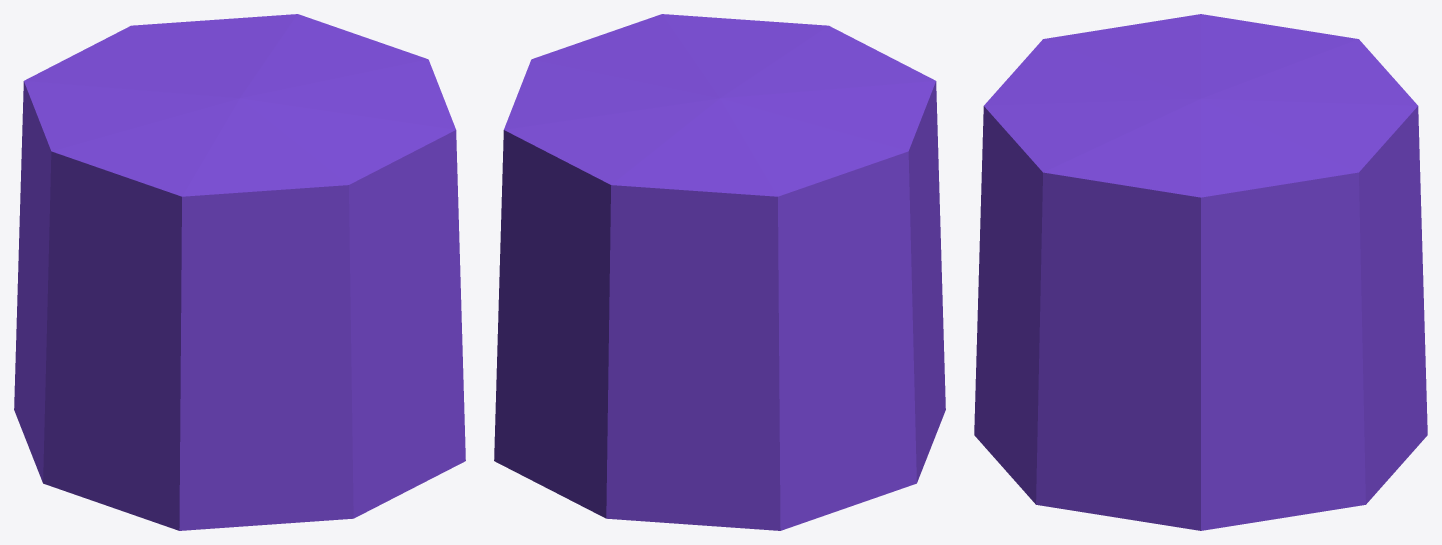
File: Shaft1.glb
3 renders of one model, left to right at view 1: azimuth 30°, elevation 25°; view 2: azimuth 150°, elevation 25°; view 3: azimuth 270°, elevation 25°, orthographic.
Parts seen in each view (by area): view 1: Shaft1.001; view 2: Shaft1.001; view 3: Shaft1.001.
Part boxes in pixels (bbox=[...]): Shaft1.001: bbox=[14, 14, 465, 530]; Shaft1.001: bbox=[494, 14, 945, 530]; Shaft1.001: bbox=[974, 14, 1427, 530].
Size of the model in its own units: 0.6111 by 0.5 by 0.6111.
